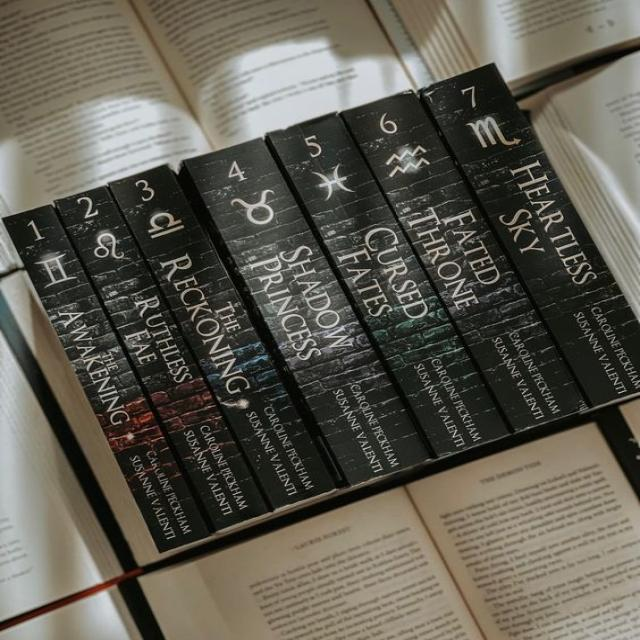book: (190, 136, 436, 492), (277, 108, 513, 459), (346, 91, 587, 433), (114, 164, 341, 507), (424, 65, 639, 409), (56, 185, 267, 529), (5, 203, 211, 554)
